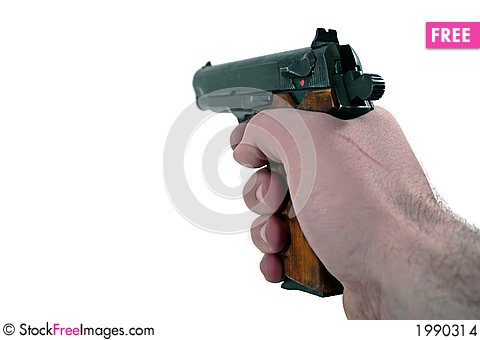pistol: (172, 24, 410, 317)
